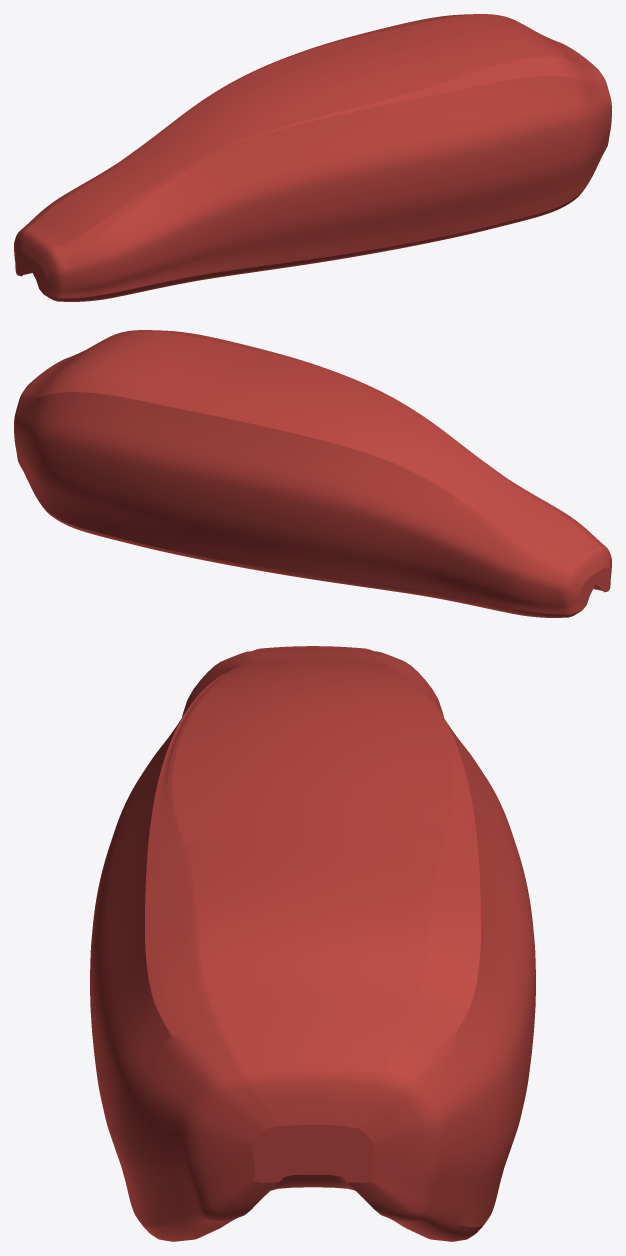
The model's file is cruiser_1.glb.
3 views of the same model, one above another, from view 1: azimuth 30°, elevation 25°; view 2: azimuth 150°, elevation 25°; view 3: azimuth 270°, elevation 25° (orthographic). The views are drawn at different scales.
Parts seen in each view (by area): view 1: cruiser_1; view 2: cruiser_1; view 3: cruiser_1.
Part boxes in pixels (x1=…): cruiser_1: x1=14, y1=14, x2=611, y2=301; cruiser_1: x1=14, y1=330, x2=611, y2=617; cruiser_1: x1=90, y1=646, x2=535, y2=1241.
Bounding box in the file's own units: 1.06 × 0.2841 × 0.3687.
